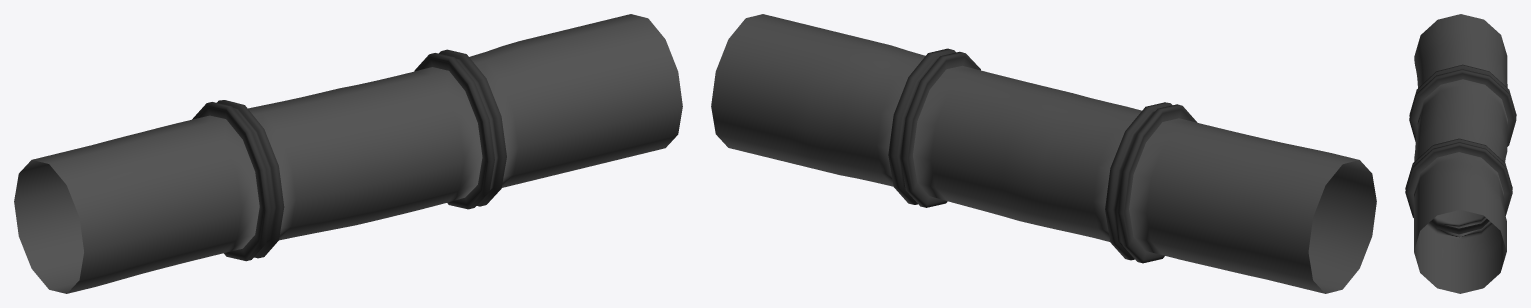
File: Heaterpipe_straight.fbx
The picture shows the model from 3 angles, left to right: view 1: azimuth 30°, elevation 25°; view 2: azimuth 150°, elevation 25°; view 3: azimuth 270°, elevation 25°; orthographic projection. The views are drawn at different scales.
Visible parts, largest first — view 1: heater_pipe; view 2: heater_pipe; view 3: heater_pipe.
Part boxes in pixels (box(x1,y1,x2,y2)): heater_pipe: box(14, 14, 682, 293); heater_pipe: box(711, 14, 1376, 293); heater_pipe: box(1405, 14, 1516, 293).
Size of the model in its own units: 200 by 47.45 by 47.81.
Materials: 1 (1 with a texture image).
